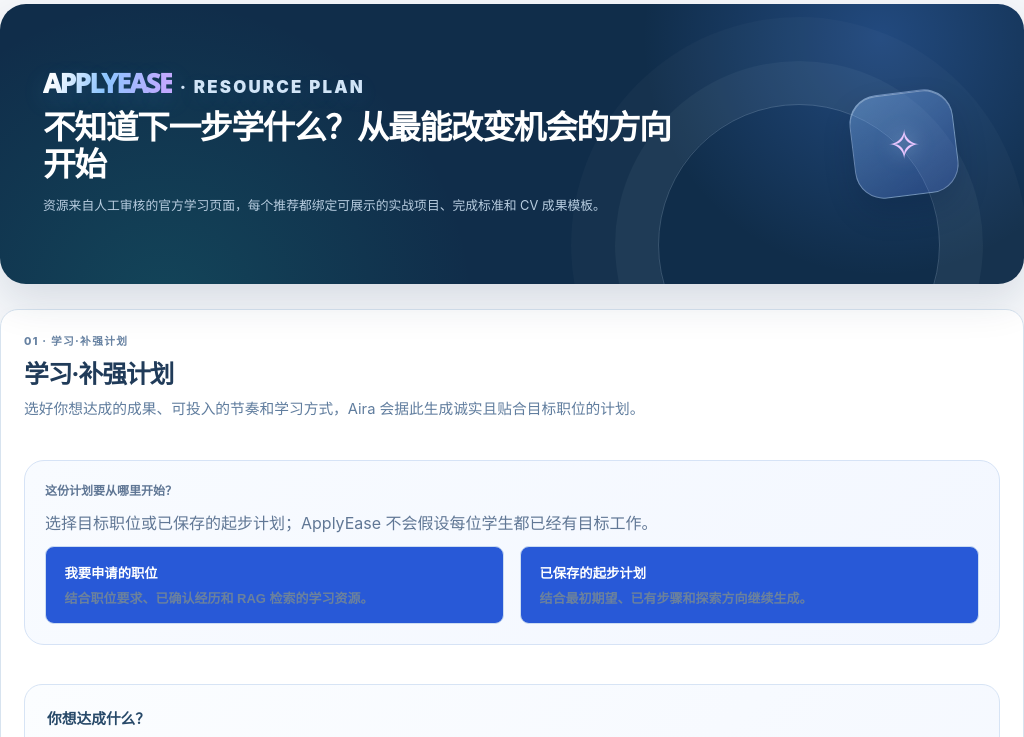
Test: ResourcePlanPage › restores the complete saved starter plan instead of a static summary
This screenshot has width=1024, height=737.
Click the button "已保存的起步计划 结合最初期望、已有步骤和探索方向继续生成。".
click(593, 574)  # box [520,546,979,624]
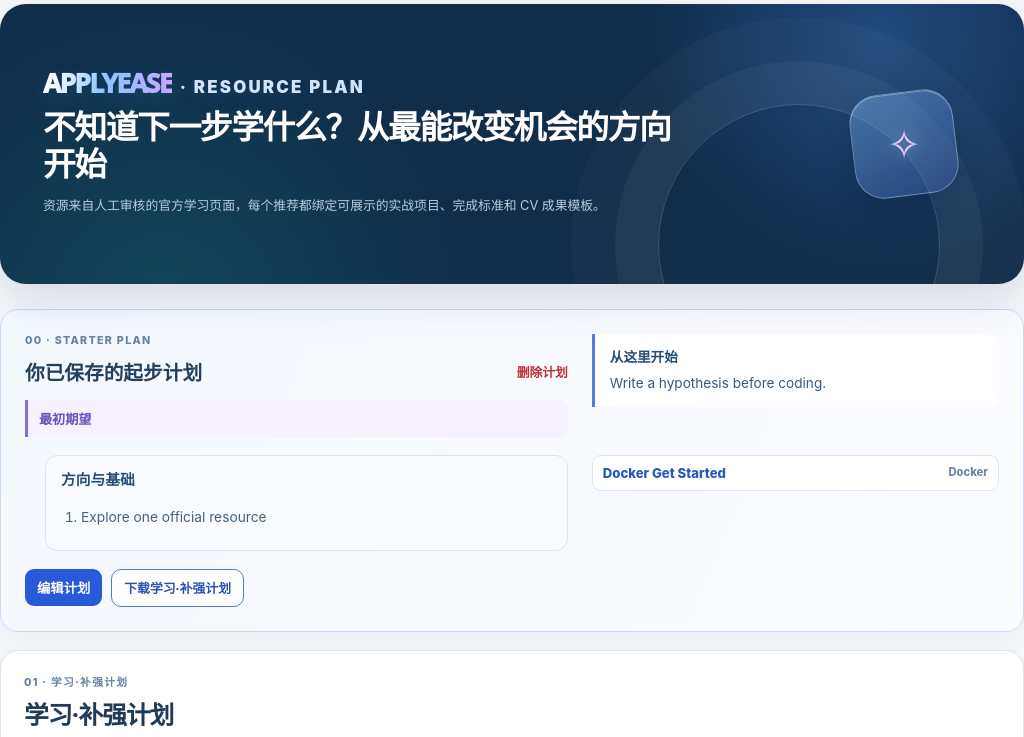
Expected: the heading "你已保存的起步计划" is shown, [25,357,202,386]
Expected: the list item "Explore one official resource" is shown, [81,509,267,525]
Expected: the link "Docker Get Started Docker" is shown, [592,455,999,491]
